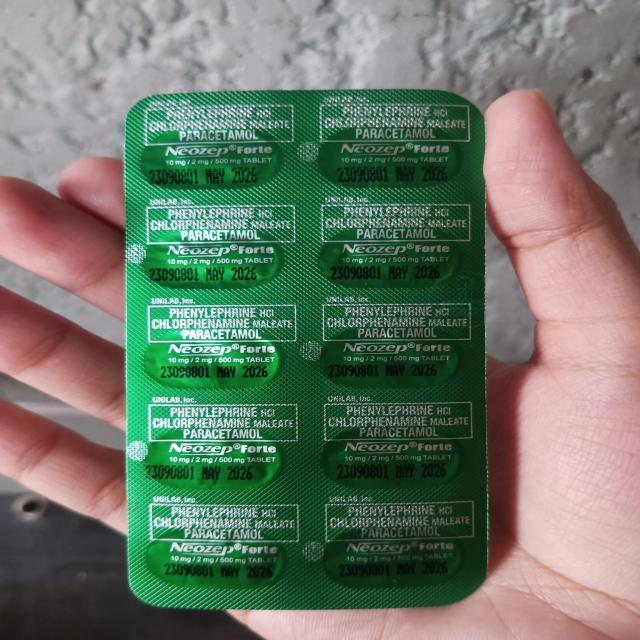Neozep_Strip: (100, 71, 522, 624)
